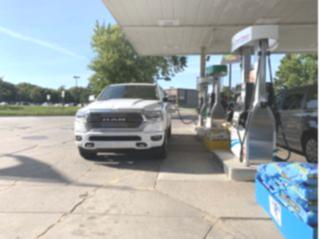ram: (100, 114, 132, 124)
